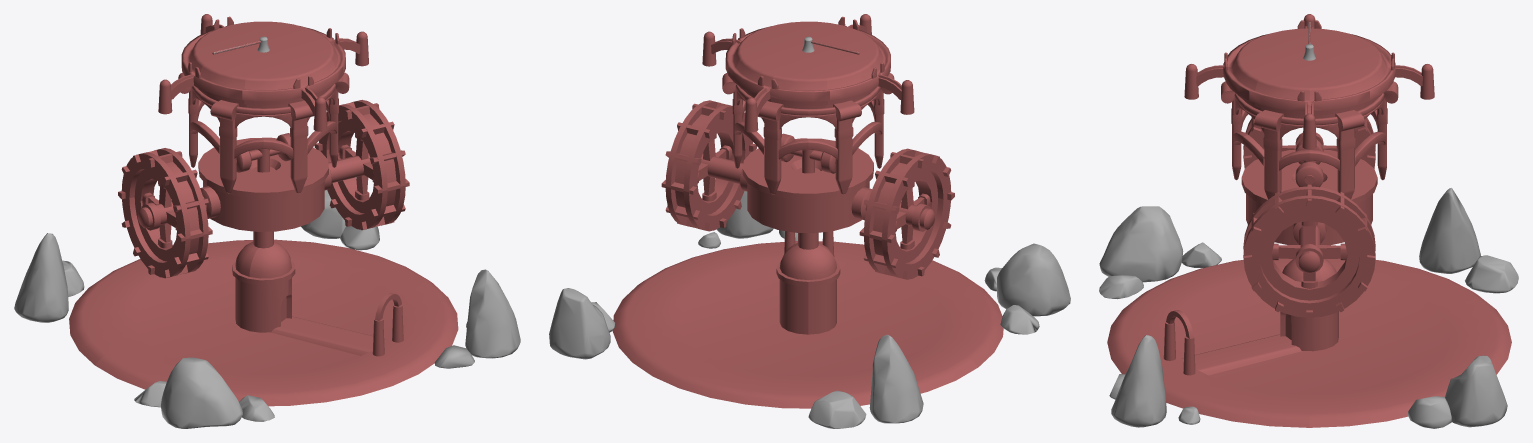
File: SM_StoneBuilding_Resource_Mill.fbx
3 renders of one model, left to right at view 1: azimuth 30°, elevation 25°; view 2: azimuth 150°, elevation 25°; view 3: azimuth 270°, elevation 25°, orthographic. The views are drawn at different scales.
Visible parts, largest first — view 1: polySurface966, polySurface962, polySurface952, polySurface975, polySurface969, pCylinder468, polySurface964, polySurface936, polySurface973, polySurface974, polySurface971, pCylinder465; view 2: polySurface966, polySurface962, polySurface952, polySurface975, polySurface969, pCylinder468, polySurface964, polySurface973, polySurface974, polySurface971, pCylinder465; view 3: polySurface966, polySurface962, polySurface952, polySurface969, pCylinder468, polySurface936, polySurface964, polySurface975, polySurface971, pCylinder466, polySurface973, pCylinder452 (+1 smaller).
Boxes of the visible parts, left/top/right/bottom form: polySurface966: left=69, top=239, right=458, bottom=406; polySurface962: left=158, top=14, right=368, bottom=193; polySurface952: left=14, top=190, right=520, bottom=428; polySurface975: left=118, top=148, right=212, bottom=278; polySurface969: left=314, top=99, right=409, bottom=230; pCylinder468: left=198, top=137, right=328, bottom=231; polySurface964: left=232, top=261, right=295, bottom=332; polySurface936: left=270, top=316, right=386, bottom=355; polySurface973: left=235, top=241, right=291, bottom=278; polySurface974: left=137, top=186, right=220, bottom=228; polySurface971: left=324, top=152, right=370, bottom=190; pCylinder465: left=253, top=149, right=273, bottom=248; polySurface966: left=612, top=241, right=1003, bottom=408; polySurface962: left=702, top=14, right=914, bottom=194; polySurface952: left=549, top=191, right=1070, bottom=428; polySurface975: left=859, top=148, right=954, bottom=279; polySurface969: left=661, top=100, right=756, bottom=231; pCylinder468: left=742, top=138, right=873, bottom=233; polySurface964: left=776, top=262, right=840, bottom=334; polySurface973: left=779, top=242, right=836, bottom=279; polySurface974: left=851, top=187, right=934, bottom=229; polySurface971: left=700, top=153, right=747, bottom=191; pCylinder465: left=798, top=150, right=818, bottom=249; polySurface966: left=1107, top=258, right=1511, bottom=427; polySurface962: left=1184, top=14, right=1434, bottom=199; polySurface952: left=1099, top=188, right=1518, bottom=428; polySurface969: left=1243, top=184, right=1375, bottom=319; pCylinder468: left=1241, top=149, right=1377, bottom=245; polySurface936: left=1182, top=334, right=1301, bottom=375; polySurface964: left=1280, top=311, right=1338, bottom=351; polySurface975: left=1243, top=117, right=1375, bottom=168; polySurface971: left=1293, top=222, right=1326, bottom=272; pCylinder466: left=1295, top=162, right=1323, bottom=187; polySurface973: left=1282, top=259, right=1336, bottom=281; pCylinder452: left=1163, top=321, right=1175, bottom=360.
Bounding box in the file's own units: 730 × 568 × 724.
